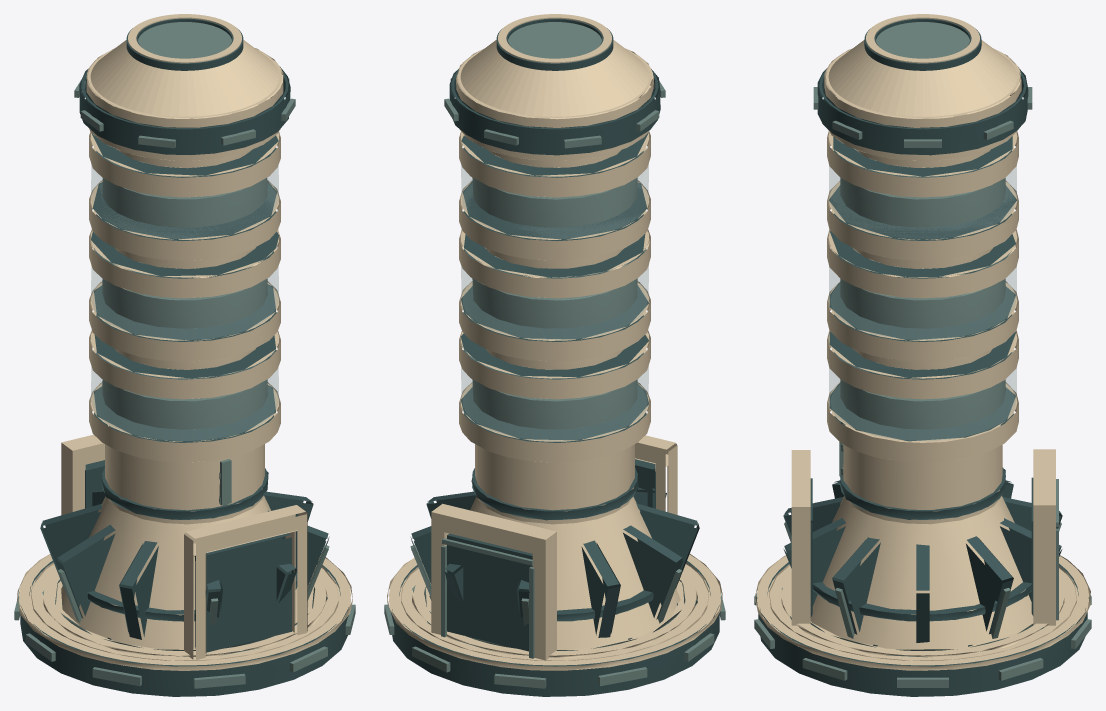
File: Cannon_T3.glb
3 renders of one model, left to right at view 1: azimuth 30°, elevation 25°; view 2: azimuth 150°, elevation 25°; view 3: azimuth 270°, elevation 25°, orthographic.
Parts seen in each view (by area): view 1: Cannon_T3; view 2: Cannon_T3; view 3: Cannon_T3.
Part boxes in pixels (bbox=[...]): Cannon_T3: bbox=[14, 14, 355, 696]; Cannon_T3: bbox=[384, 14, 725, 696]; Cannon_T3: bbox=[754, 14, 1091, 696].
Size of the model in its own units: 3.58 by 6.89 by 3.57.
